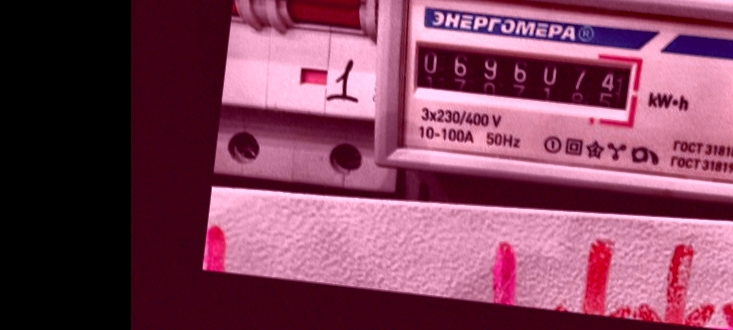0: (418, 46, 440, 72), (540, 58, 558, 85)
4: (597, 65, 616, 89)
5: (596, 90, 614, 107)
6: (511, 55, 530, 83), (450, 50, 470, 76)
7: (569, 63, 589, 90)
9: (480, 52, 499, 80)
screen: (399, 26, 646, 122)
